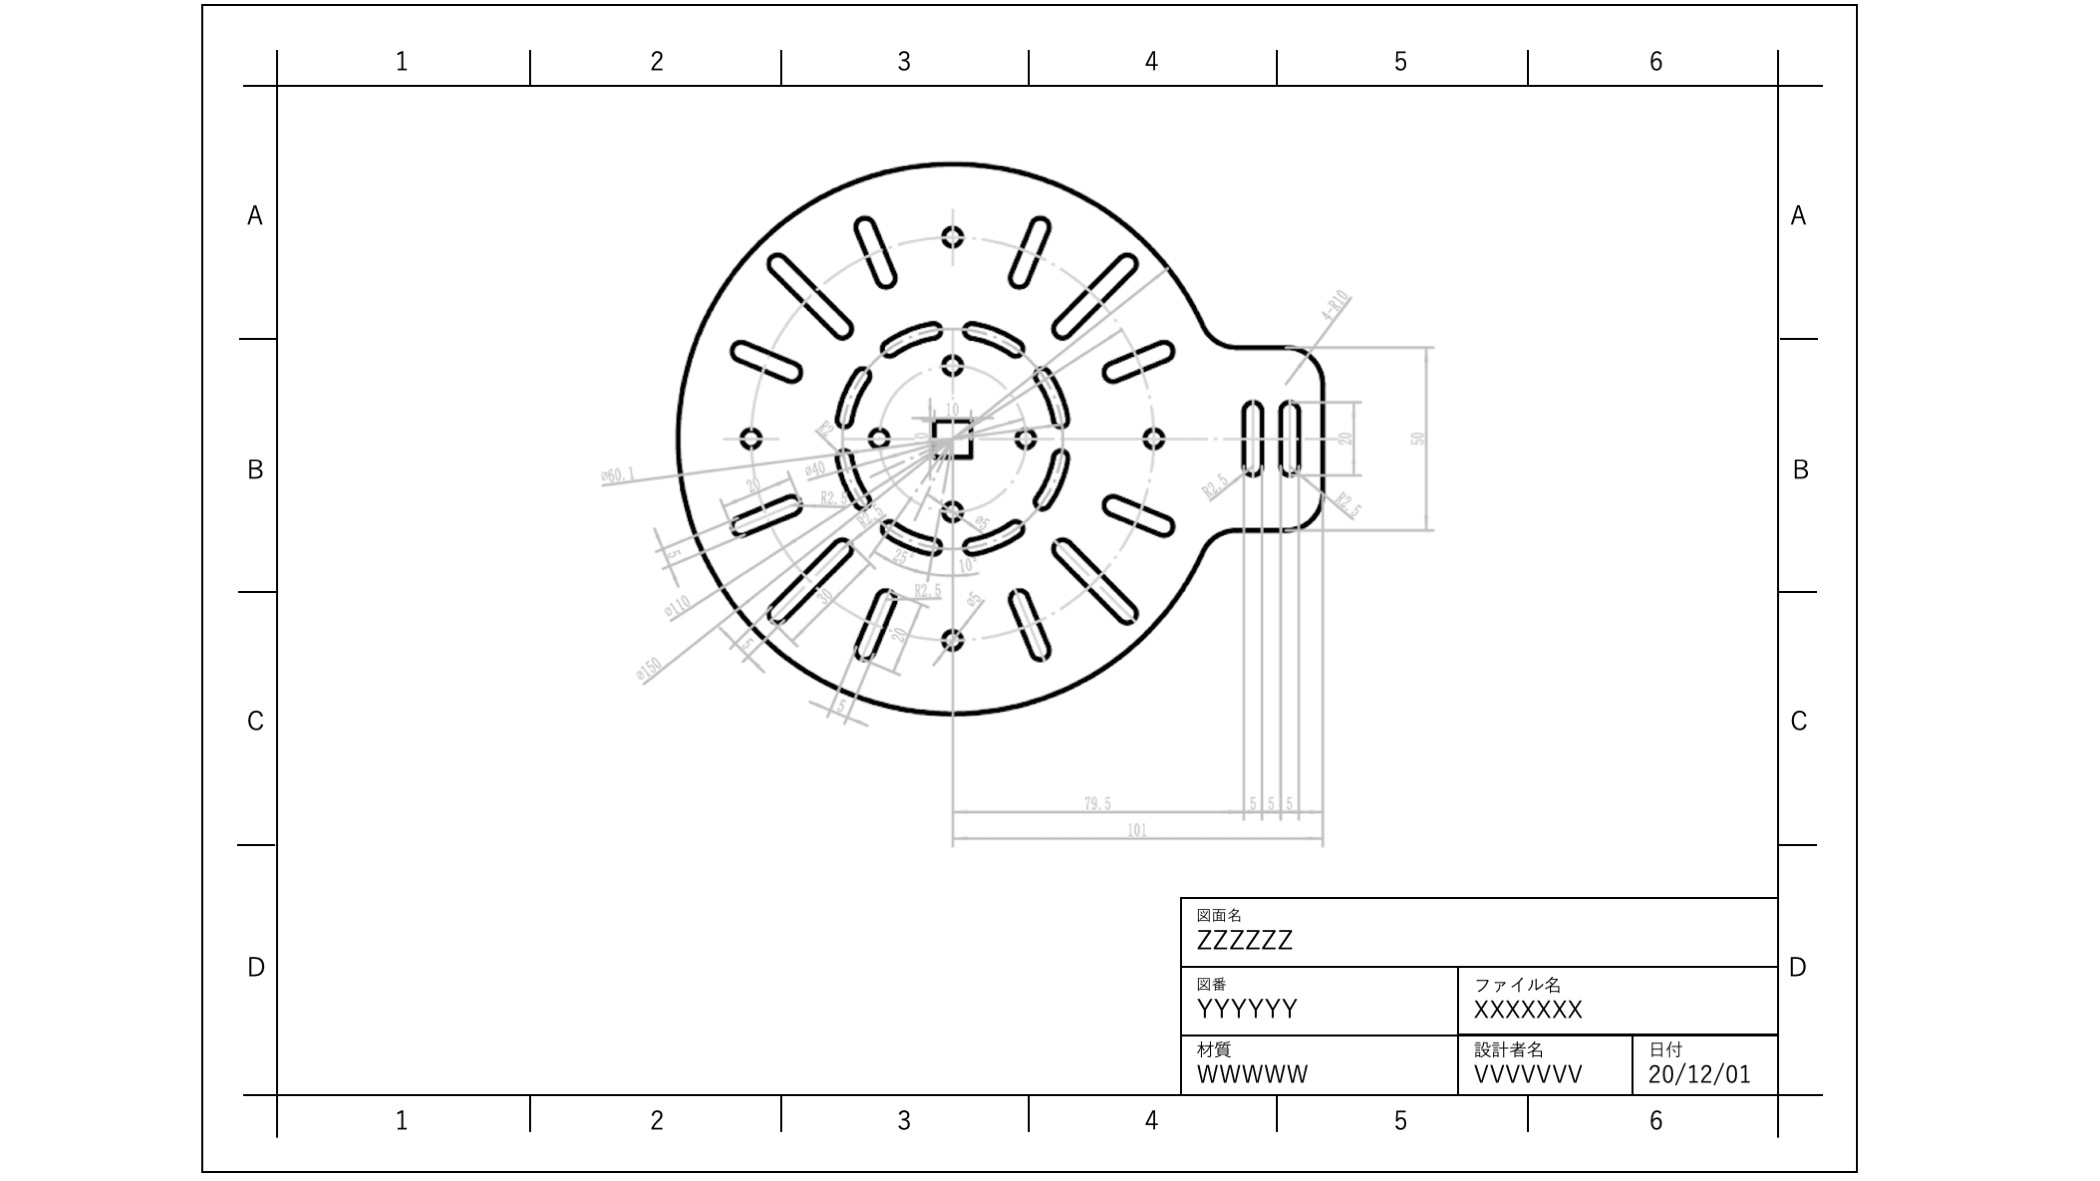circle: (1137, 415, 1173, 456), (1010, 412, 1041, 457), (937, 622, 972, 662), (936, 216, 974, 252), (860, 417, 896, 454), (940, 487, 971, 523), (736, 418, 767, 451), (937, 342, 966, 378)
rectangle: (922, 405, 974, 466)
round_rectangle: (1043, 247, 1150, 336), (756, 249, 860, 340), (1047, 534, 1142, 629), (766, 531, 860, 623), (723, 332, 811, 386), (826, 350, 878, 443), (1102, 327, 1178, 386), (1100, 485, 1178, 542), (724, 483, 808, 536), (850, 585, 904, 665), (1002, 580, 1051, 668), (1002, 203, 1051, 290), (850, 212, 899, 296), (875, 300, 932, 369), (1024, 359, 1075, 434), (831, 441, 878, 518), (878, 506, 942, 559), (961, 512, 1033, 558), (1274, 392, 1308, 485), (1027, 444, 1075, 510), (1235, 388, 1265, 489), (961, 314, 1025, 359)
